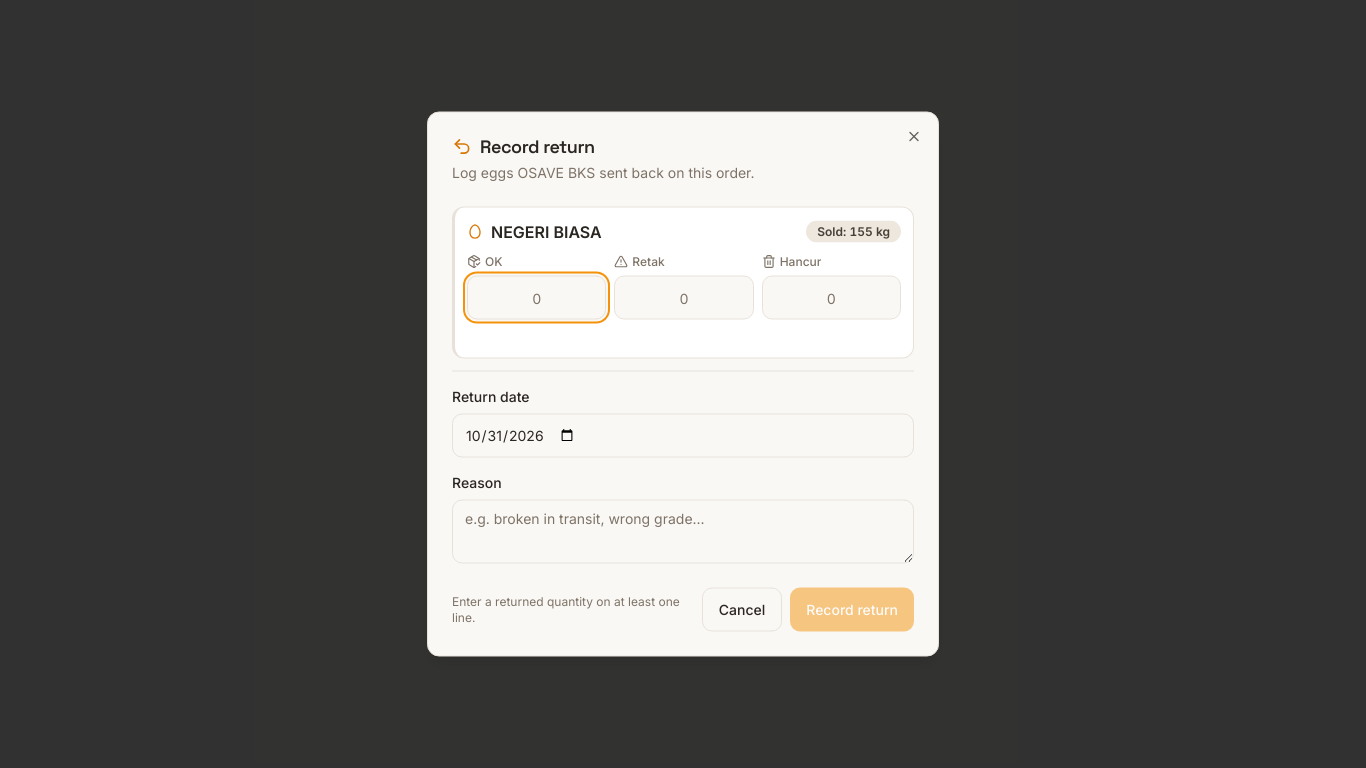
it: RecordReturnDialog › disables confirm until a valid quantity is entered
The image size is (1366, 768).
Expected: the button "Record return" is disabled, [790, 588, 914, 632]
Type "30" into the field labelled "OK". click: point(537, 298)
box: [467, 276, 606, 320]
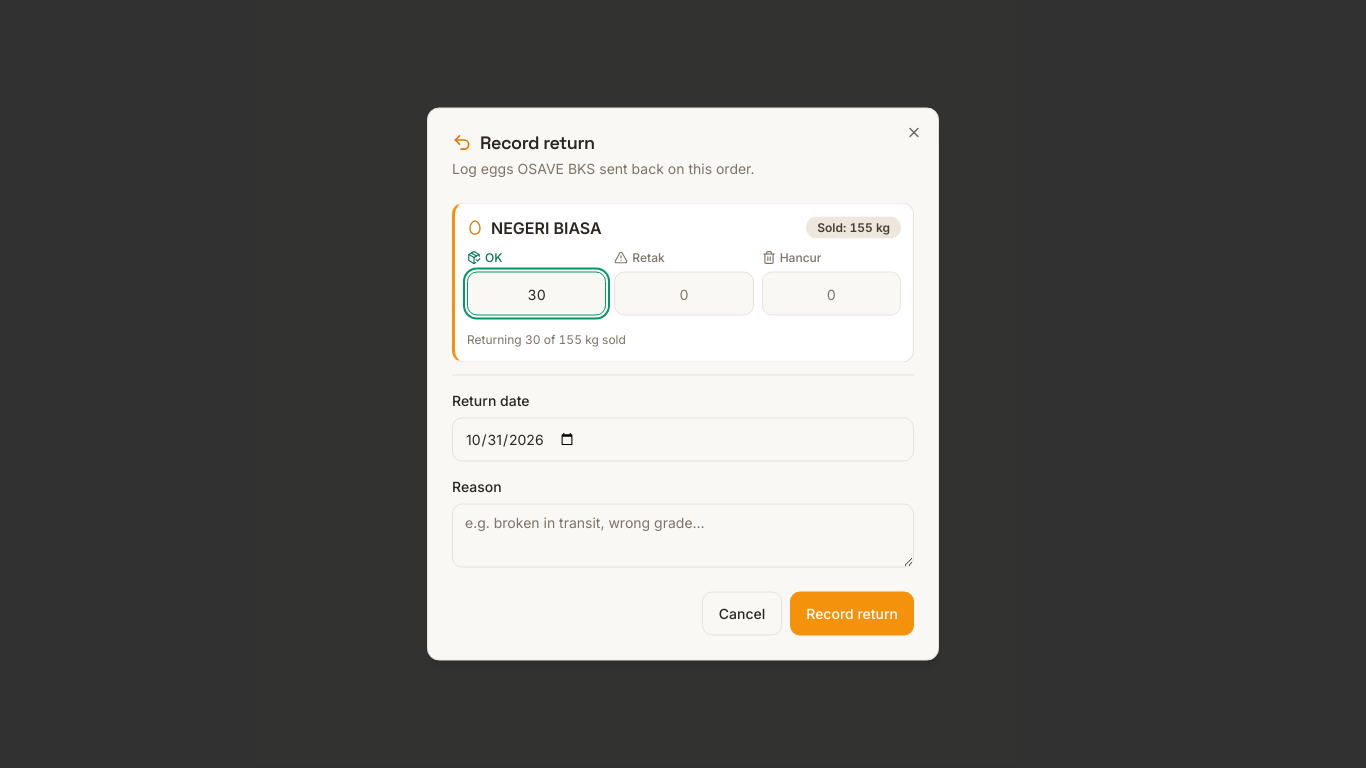
Expected: the button "Record return" is enabled, [790, 592, 914, 636]
